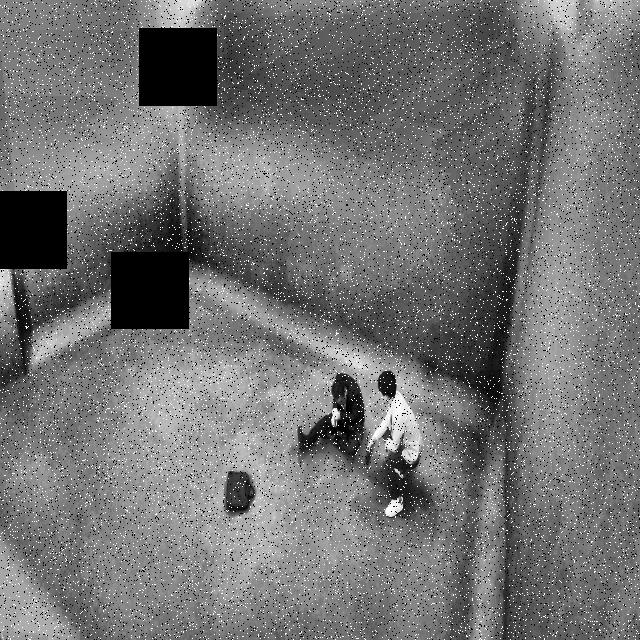assult: (227, 280, 435, 527), (290, 346, 437, 520), (295, 353, 367, 465)
